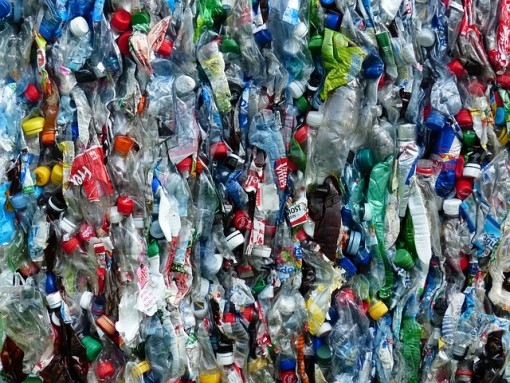plastic: (306, 78, 374, 195), (422, 2, 465, 133), (62, 144, 118, 214), (301, 176, 344, 264), (19, 158, 77, 192), (389, 242, 425, 279), (359, 295, 395, 324), (21, 113, 52, 142), (106, 8, 137, 30), (65, 13, 91, 39)
